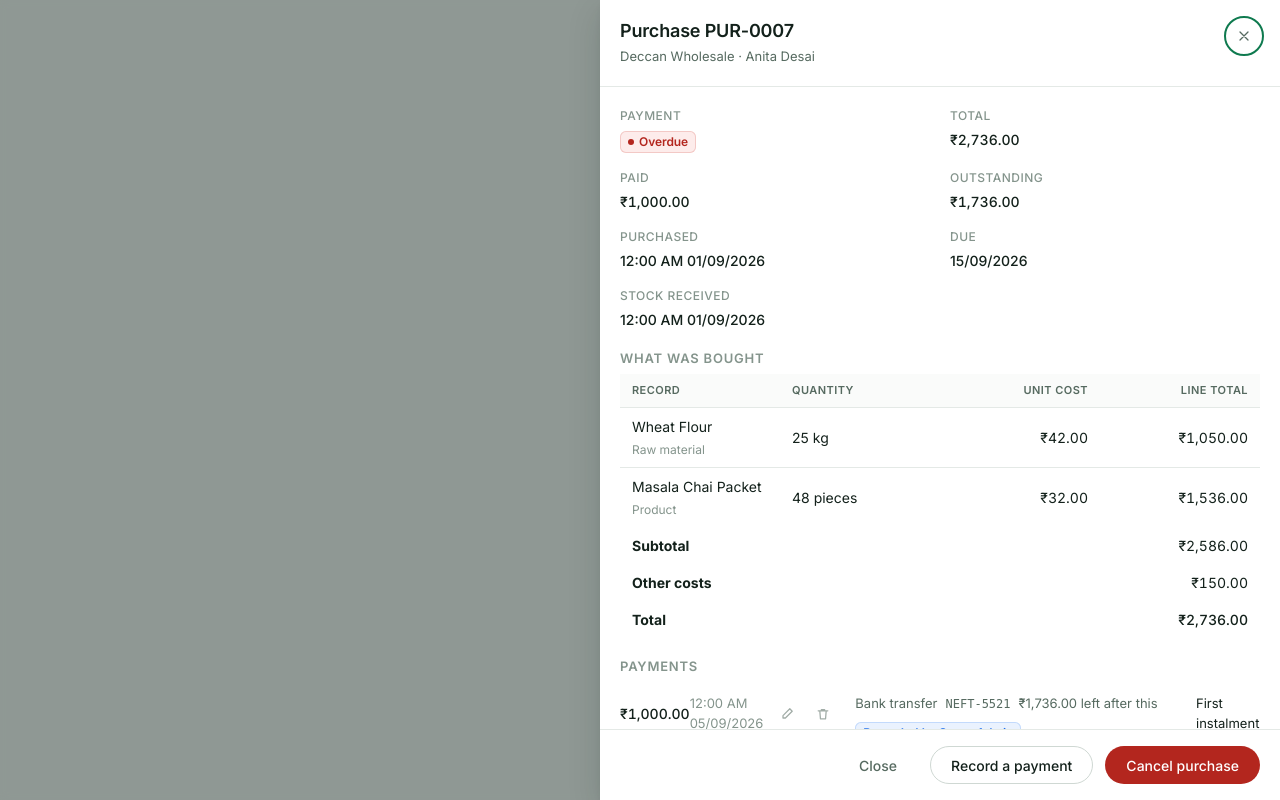
Test: PurchaseDetailPanel › reports a refused cancellation without changing anything on screen
Click the button "Cancel purchase": {"x": 1183, "y": 765} x1=1105 y1=746 x2=1260 y2=784
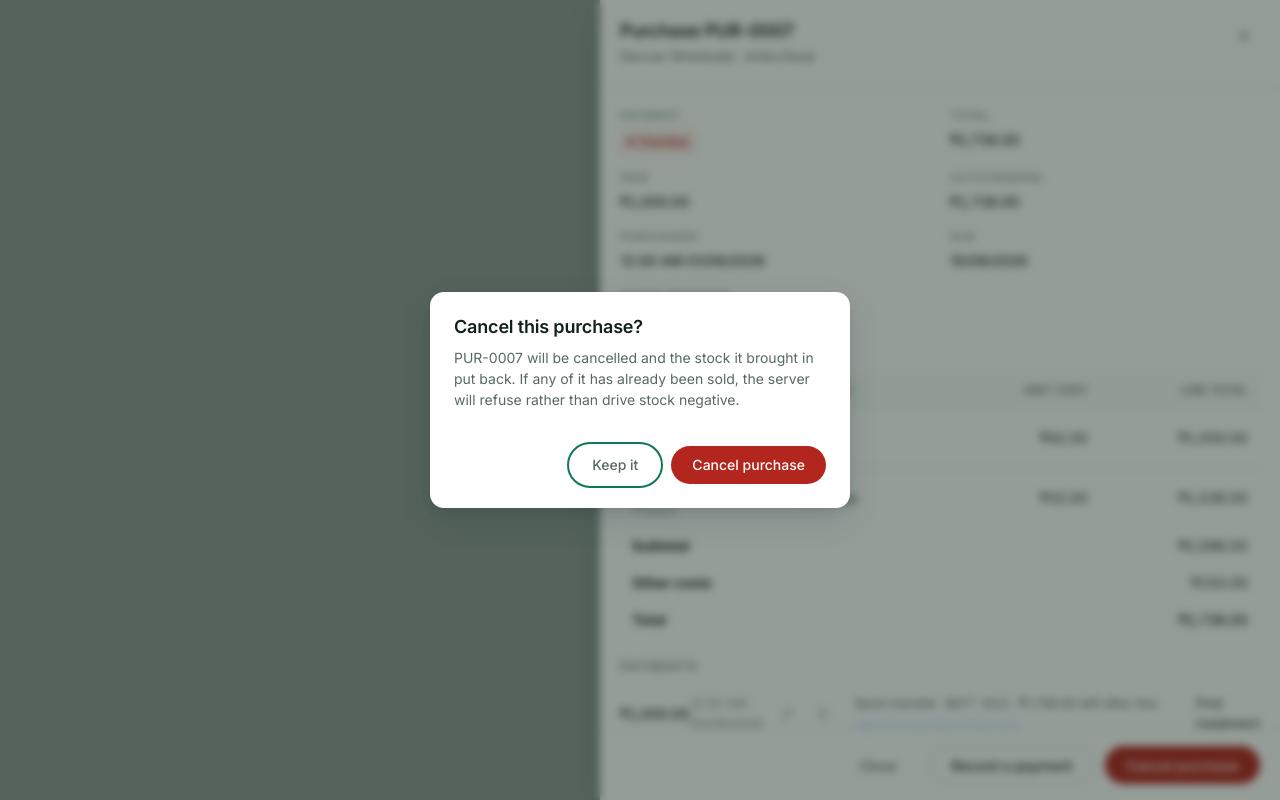
Click the button "Cancel purchase": {"x": 749, "y": 465} x1=671 y1=446 x2=826 y2=484
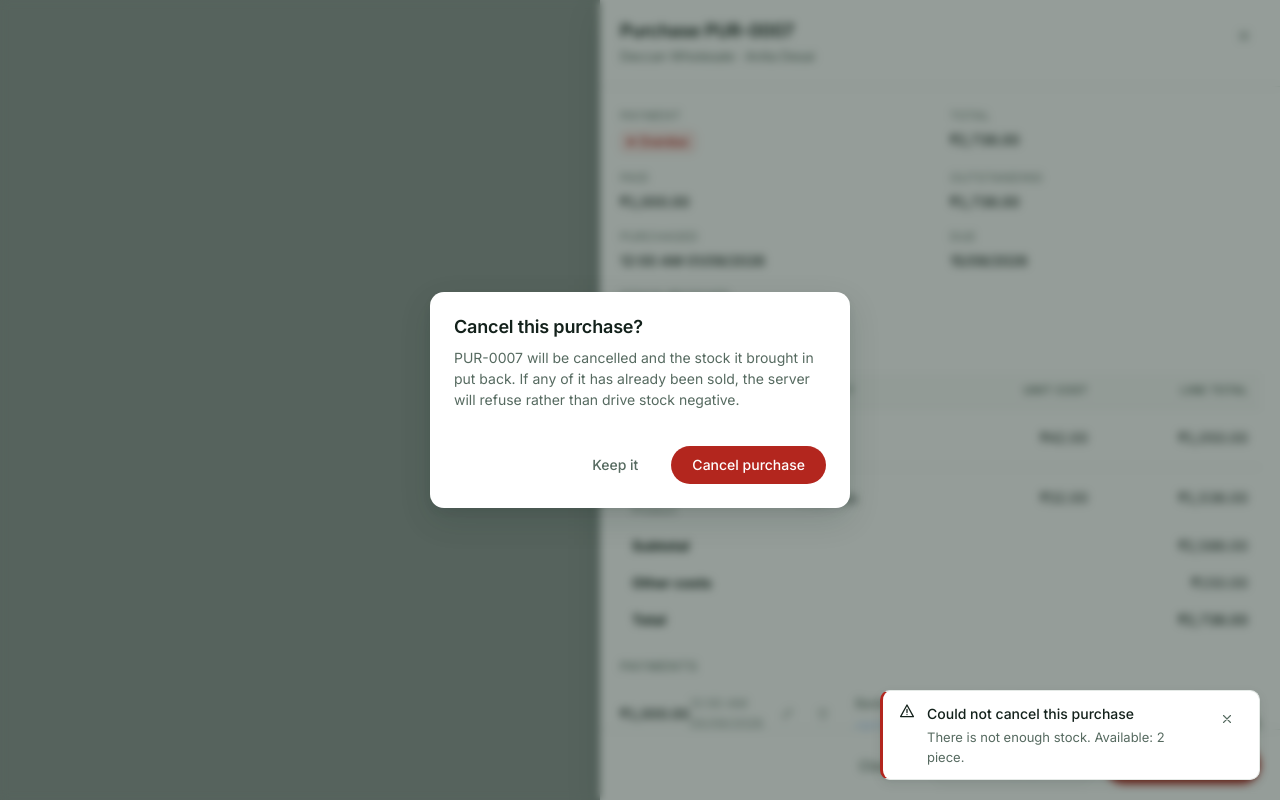
Expected: the text "There is not enough stock. Available: 2 piece." is shown, x1=927 y1=728 x2=1199 y2=767
